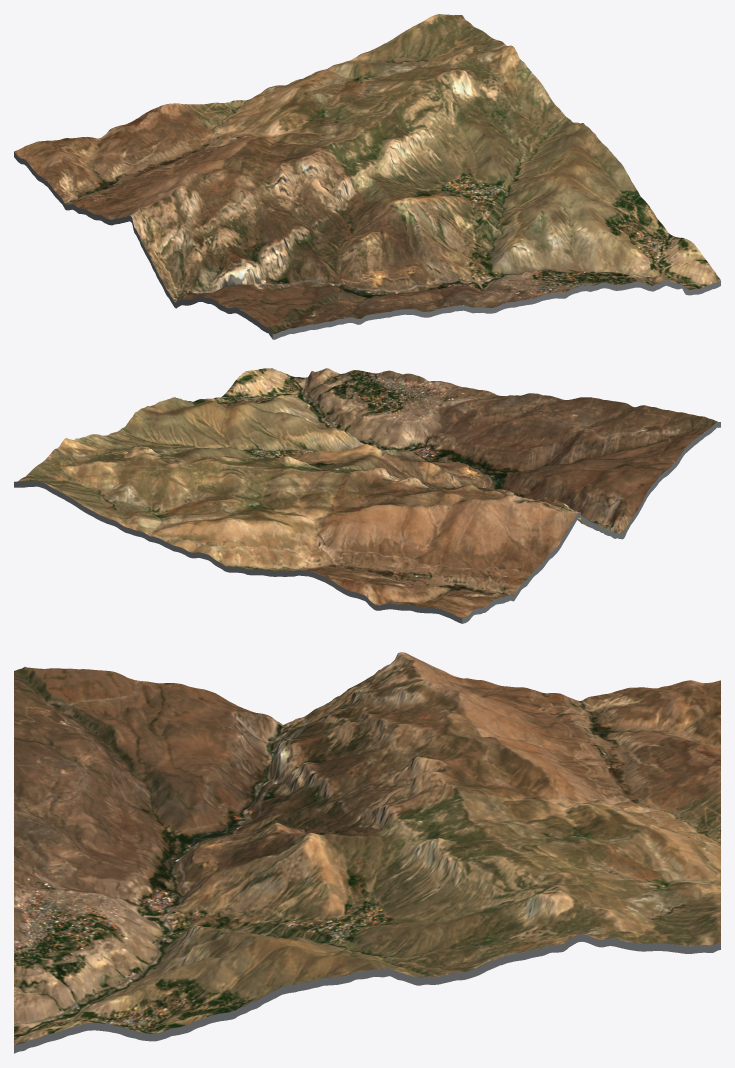
3 views of the same model, one above another, from view 1: azimuth 30°, elevation 25°; view 2: azimuth 150°, elevation 25°; view 3: azimuth 270°, elevation 25° (orthographic). The views are drawn at different scales.
Visible parts, largest first — view 1: terrain, skirt; view 2: terrain, skirt; view 3: terrain, skirt.
Part boxes in pixels (x1=…): terrain: x1=14, y1=14, x2=720, y2=334; skirt: x1=14, y1=152, x2=720, y2=339; terrain: x1=14, y1=368, x2=718, y2=618; skirt: x1=14, y1=422, x2=720, y2=623; terrain: x1=14, y1=652, x2=720, y2=1045; skirt: x1=14, y1=934, x2=720, y2=1053.
Bounding box in the file's own units: 7500 × 1461 × 7500.
1 material, 1 textured.
